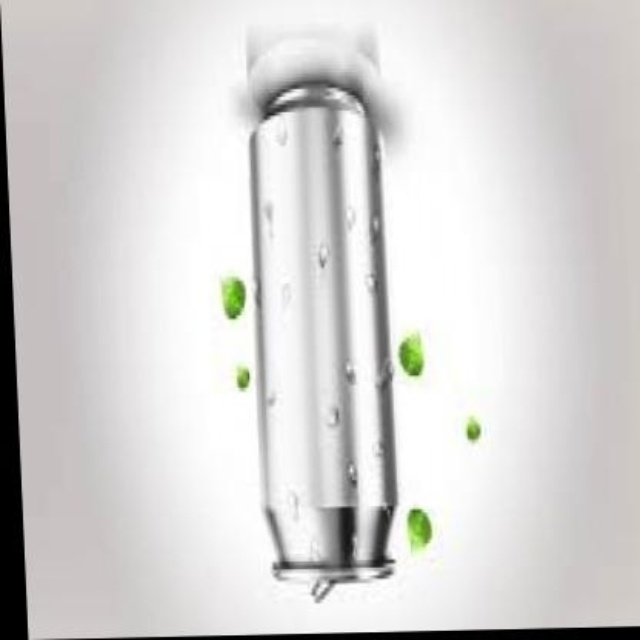trash: (249, 29, 395, 600)
